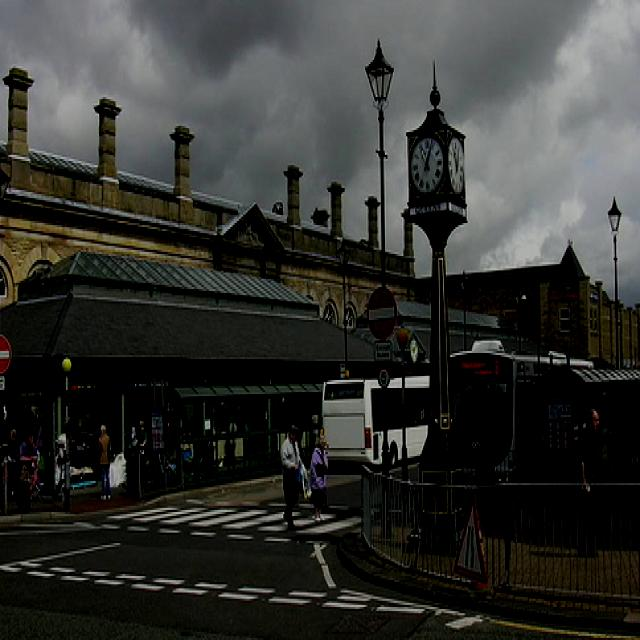Vehicle: (452, 338, 592, 488), (321, 375, 430, 465)
